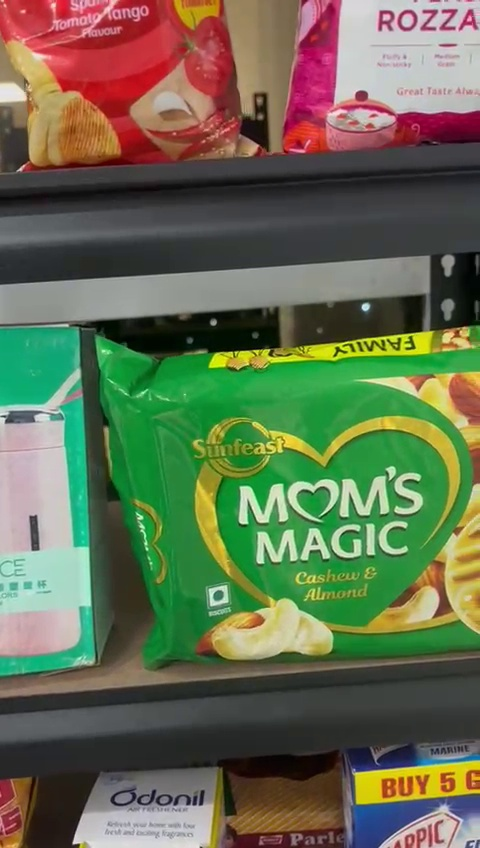Moms magic: (110, 339, 480, 673)
